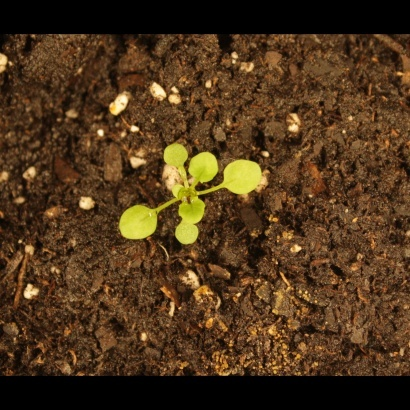leaf: (109, 204, 161, 251), (220, 154, 266, 198), (169, 196, 211, 229), (158, 141, 195, 172), (190, 147, 220, 185), (171, 214, 202, 247)
